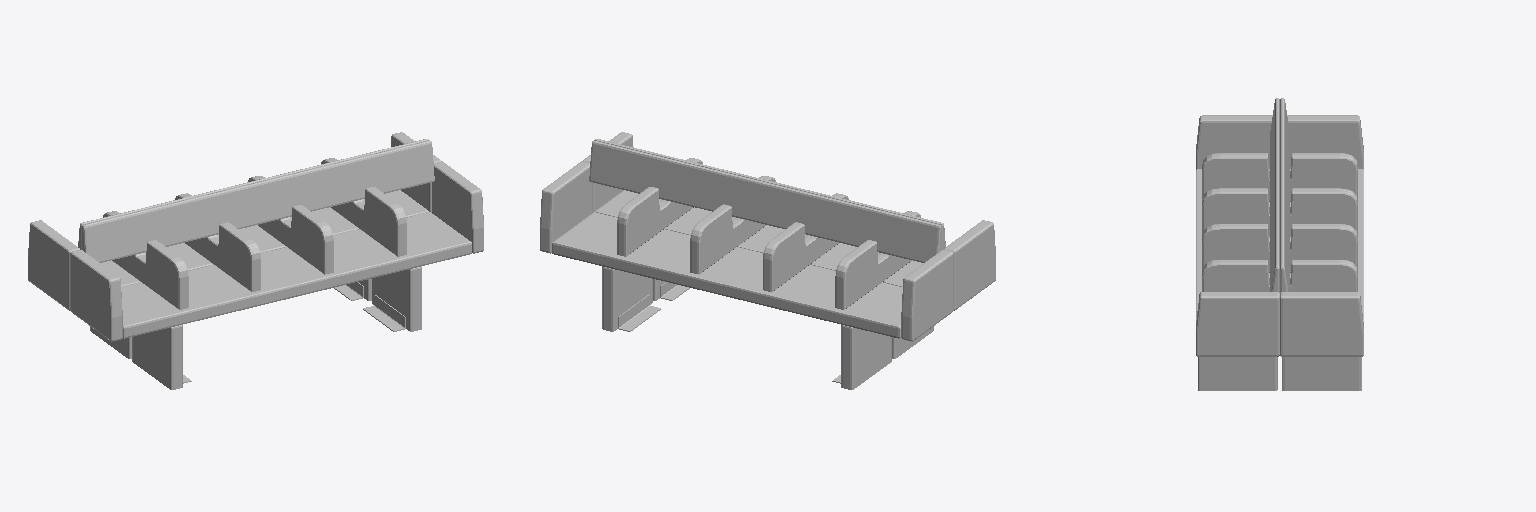
Rendered from bench2.obj.
3 renders of one model, left to right at view 1: azimuth 30°, elevation 25°; view 2: azimuth 150°, elevation 25°; view 3: azimuth 270°, elevation 25°, orthographic.
Parts seen in each view (by area): view 1: Box002_Mesh; view 2: Box002_Mesh; view 3: Box002_Mesh.
Part boxes in pixels (x1,y1,x2,y2): Box002_Mesh: (28,132,483,389); Box002_Mesh: (540,132,995,389); Box002_Mesh: (1196,98,1363,390).
Bounding box in the file's own units: 3.41 × 1.29 × 1.34.